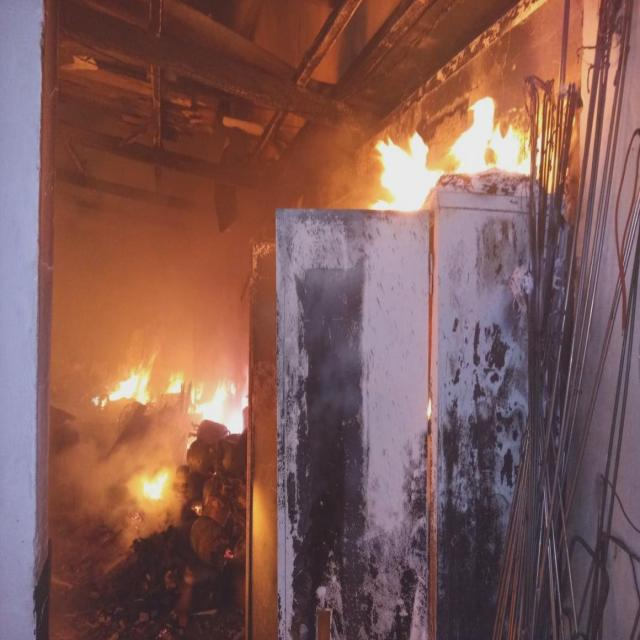Fire: (363, 104, 543, 206), (190, 376, 248, 439), (88, 360, 154, 405), (129, 464, 169, 500), (163, 370, 187, 396)
